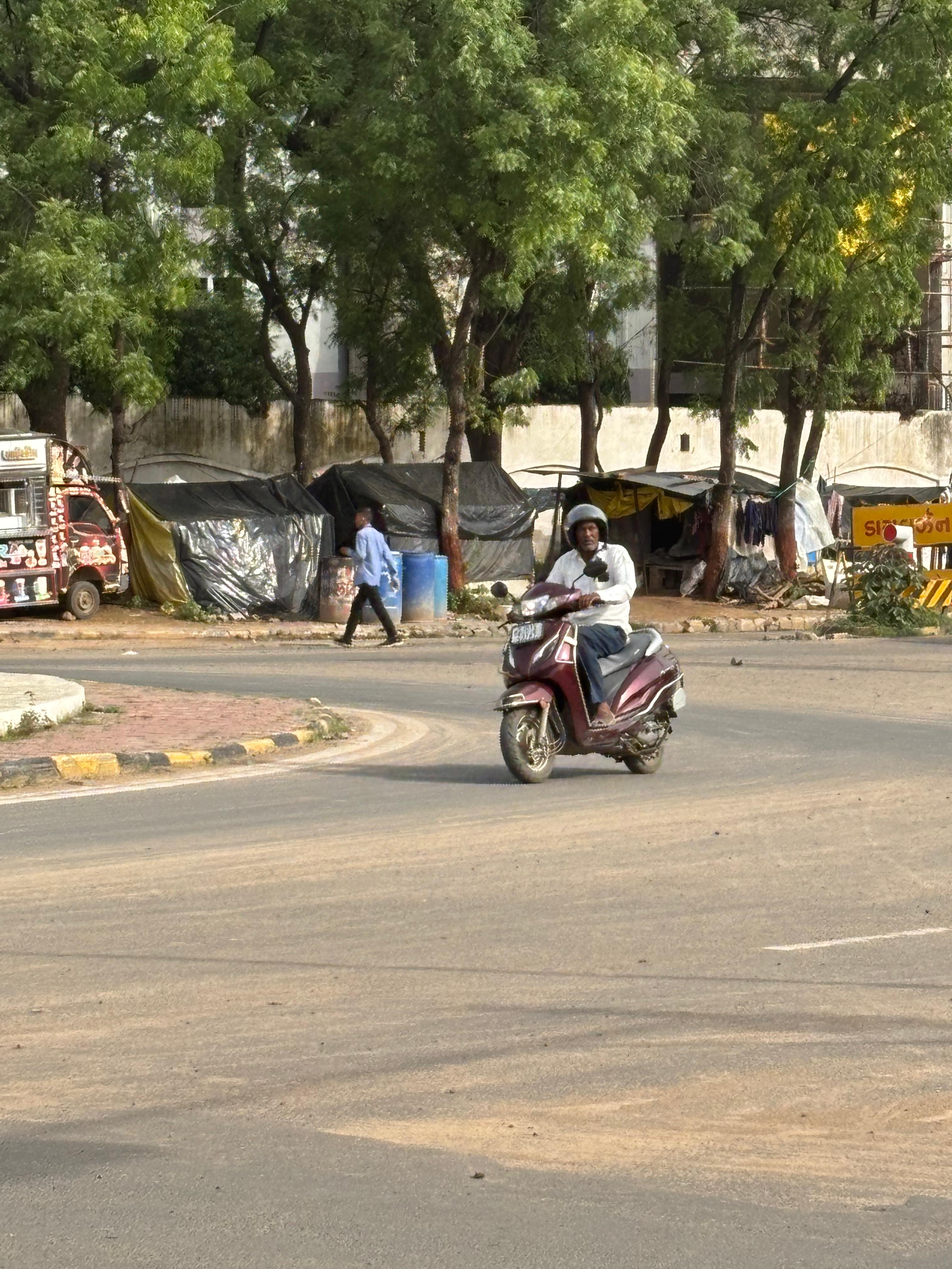BikeWithRider: (484, 493, 696, 791)
Helmet: (559, 496, 616, 560)
